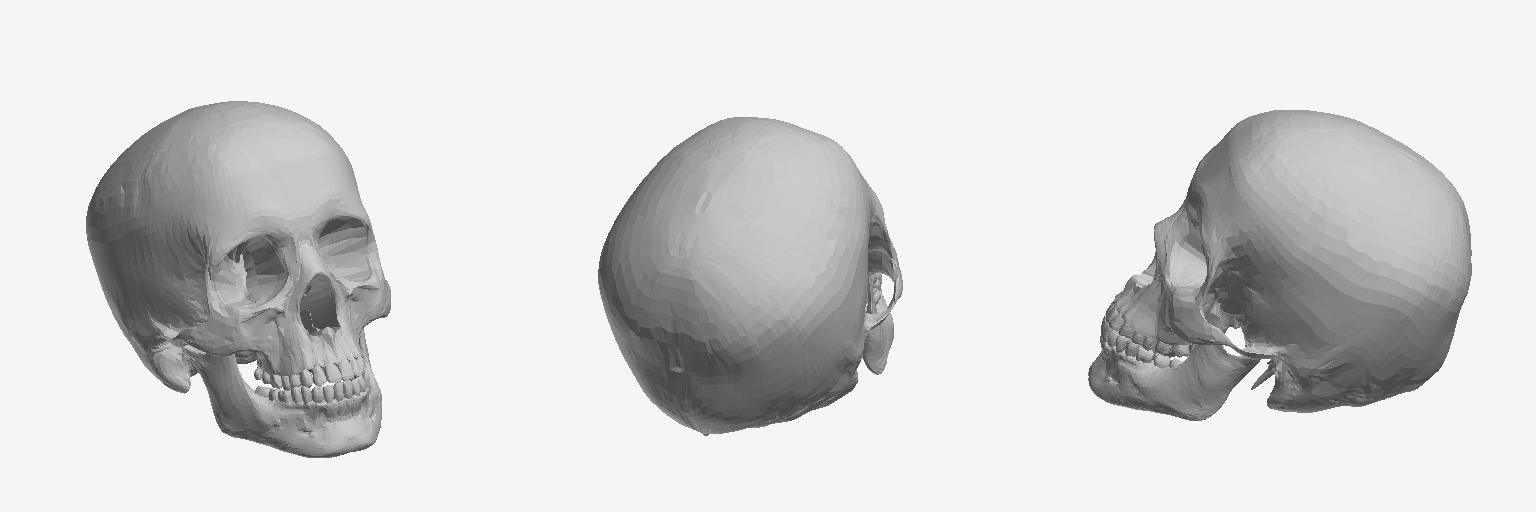
Rendered from skull.obj.
3 renders of one model, left to right at view 1: azimuth 30°, elevation 25°; view 2: azimuth 150°, elevation 25°; view 3: azimuth 270°, elevation 25°, orthographic.
Parts seen in each view (by area): view 1: Skull; view 2: Skull; view 3: Skull.
Part boxes in pixels (left/top/right/bottom): Skull: left=86, top=101, right=390, bottom=457; Skull: left=598, top=117, right=902, bottom=435; Skull: left=1088, top=110, right=1471, bottom=420.
Size of the model in its own units: 6.19 by 6.92 by 8.96.